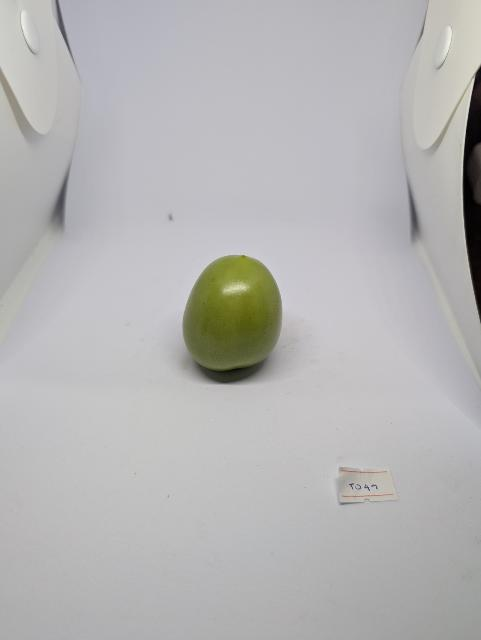green: (174, 245, 298, 381)
